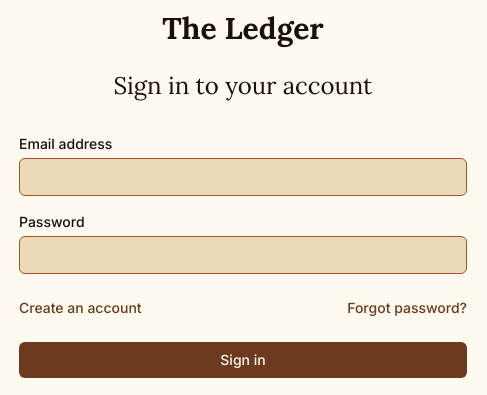
Scenario: LoginPage › should disable form during submission
Type "test@example.com" into the field labelled "Email address". click: (243, 177)
box: top-left (19, 158), bottom-right (467, 196)
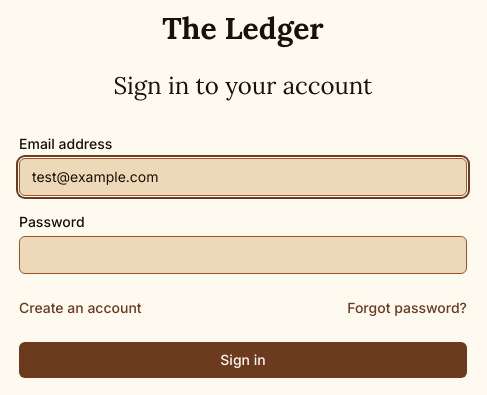
Type "password123" into the password field labelled "Password". click: (243, 255)
box: top-left (19, 236), bottom-right (467, 274)
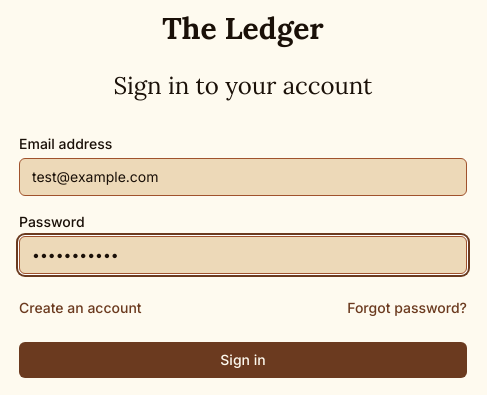
Click the button "Sign in". click: (243, 360)
box: top-left (19, 342), bottom-right (467, 378)
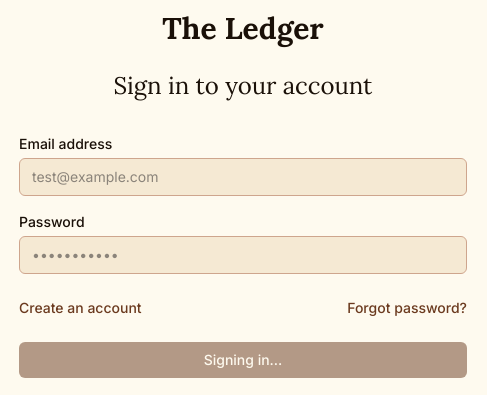
Expected: the button "Signing in..." is disabled, top-left (19, 342), bottom-right (467, 378)
Expected: the field labelled "Email address" is disabled, top-left (19, 158), bottom-right (467, 196)
Expected: the password field labelled "Password" is disabled, top-left (19, 236), bottom-right (467, 274)
